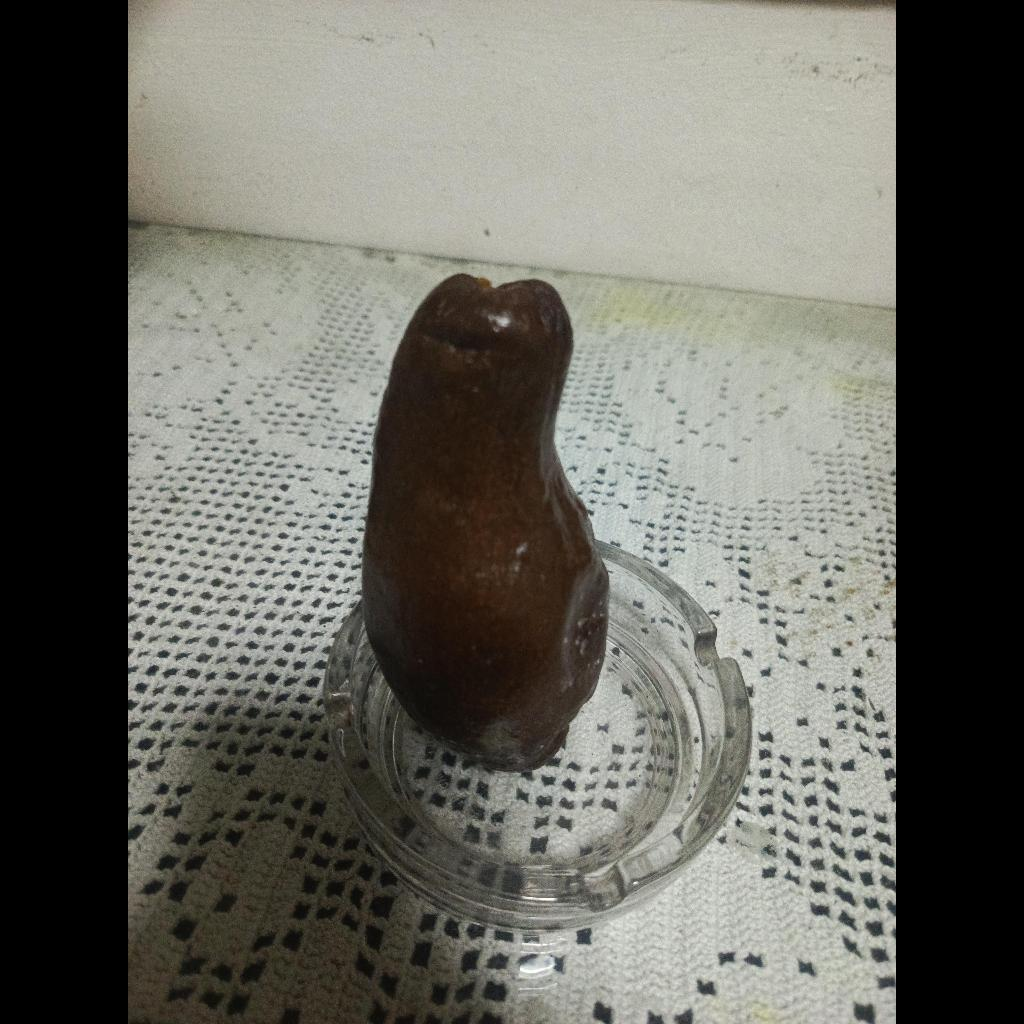pudricion_peduncular: (362, 273, 609, 771)
